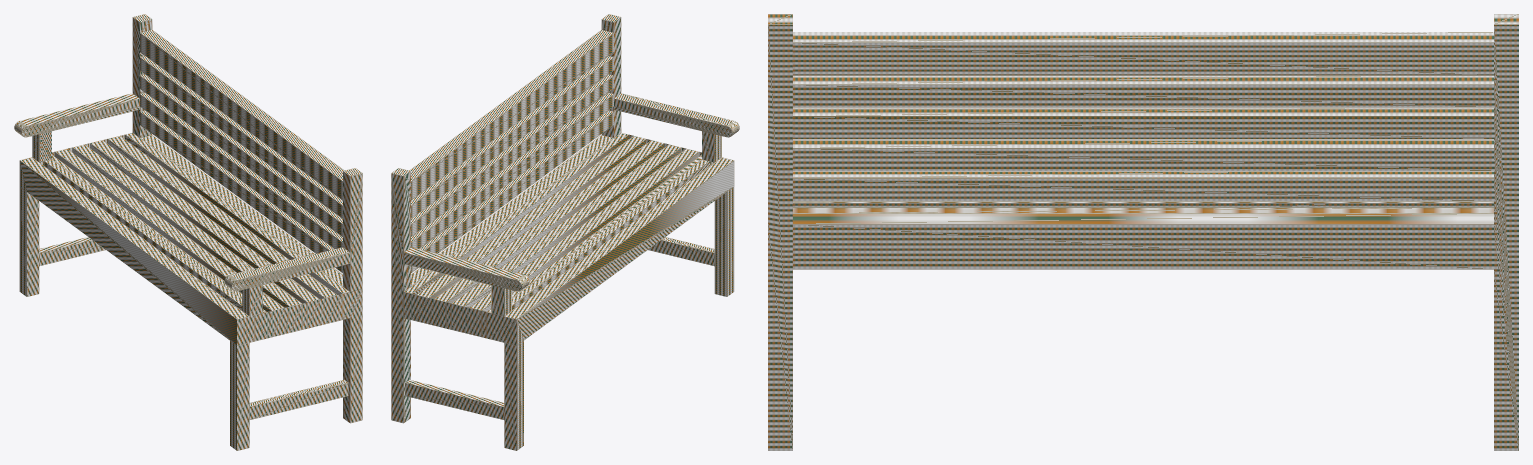
Rendered from Park_Bench_Green.gltf.
3 renders of one model, left to right at view 1: azimuth 30°, elevation 25°; view 2: azimuth 150°, elevation 25°; view 3: azimuth 270°, elevation 25°, orthographic. The views are drawn at different scales.
Visible parts, largest first — view 1: node1; view 2: node1; view 3: node1.
Boxes of the visible parts, left/top/right/bottom form: node1: left=14, top=14, right=362, bottom=450; node1: left=391, top=14, right=739, bottom=450; node1: left=768, top=14, right=1518, bottom=450.
Size of the model in its own units: 0.5214 by 0.94 by 1.5.
